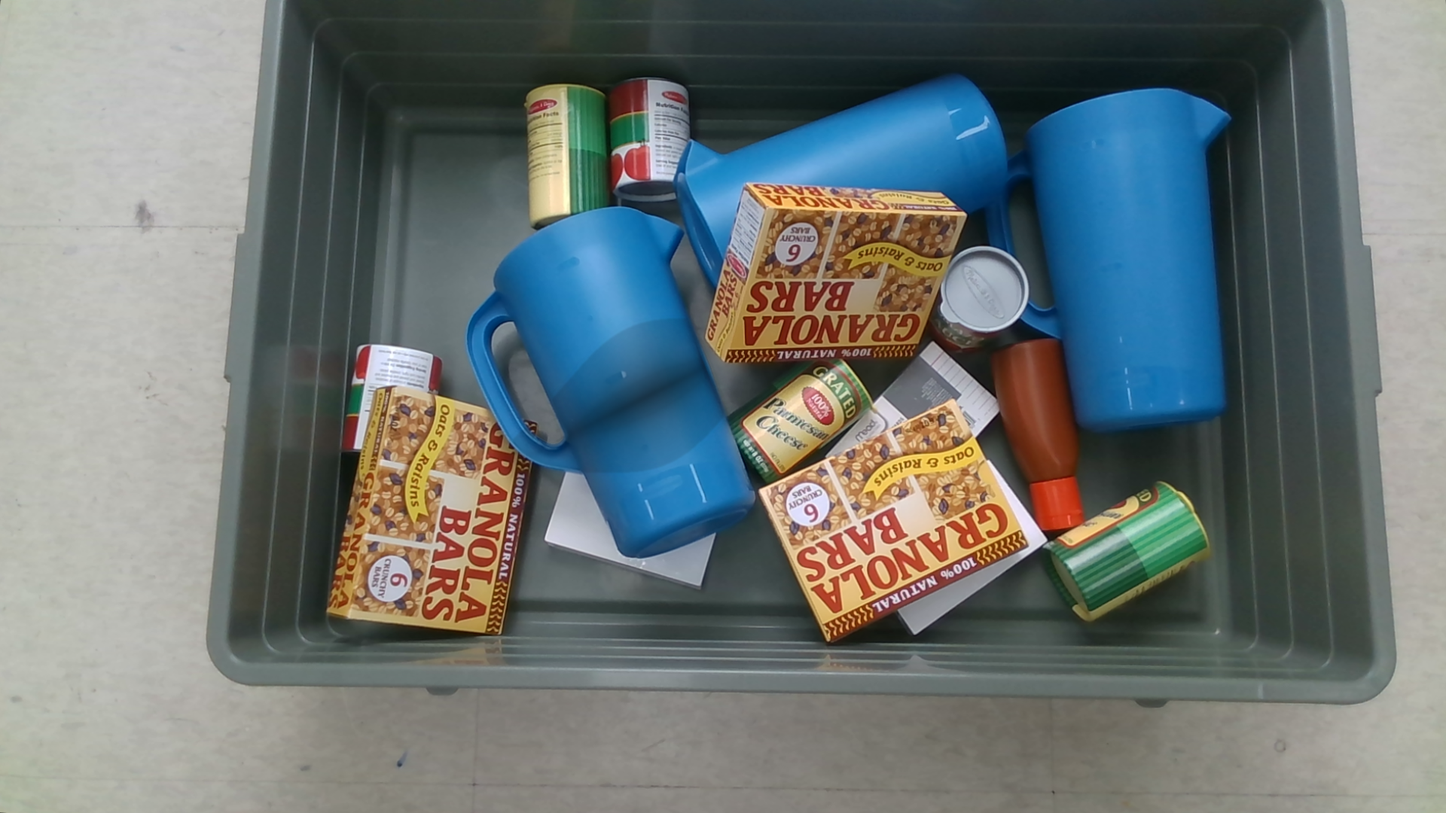defect: (513, 318, 724, 473)
